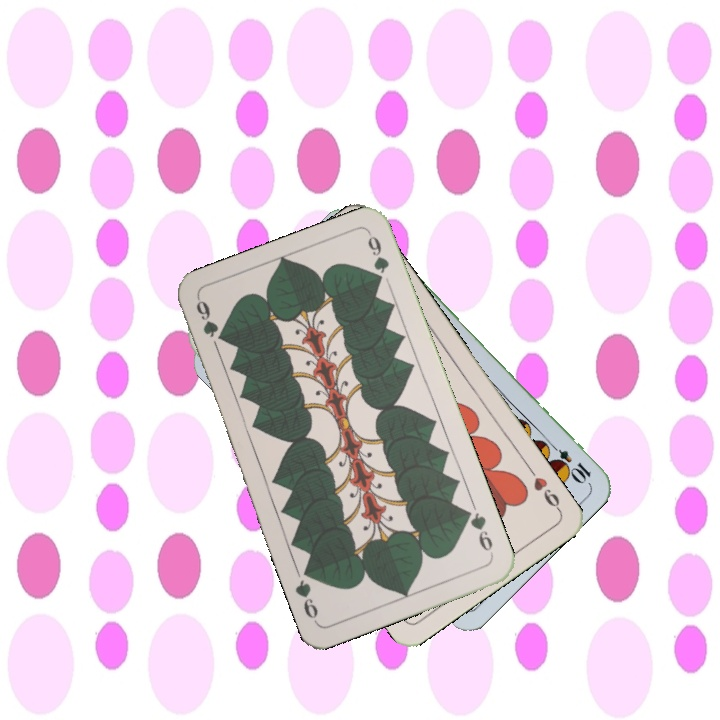E10: (543, 438, 594, 485)
G9: (460, 505, 497, 559), (192, 295, 226, 344)
H9: (524, 463, 564, 515)
